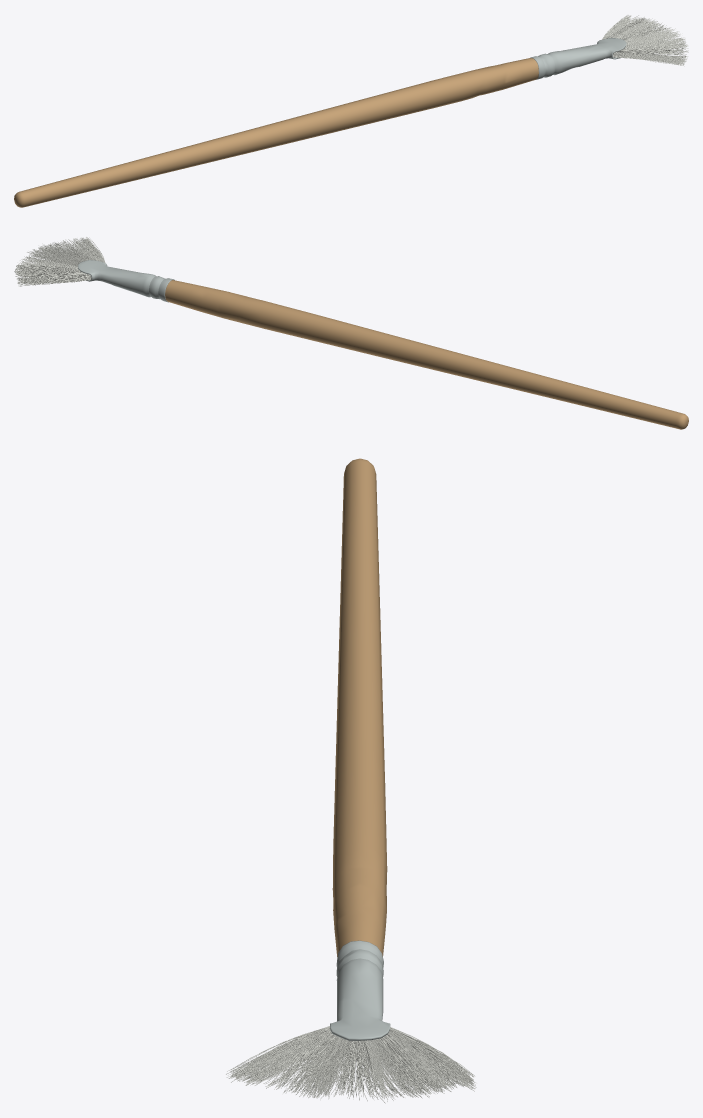
The model's file is paint_supplies_brush_a12.glb.
3 views of the same model, one above another, from view 1: azimuth 30°, elevation 25°; view 2: azimuth 150°, elevation 25°; view 3: azimuth 270°, elevation 25° (orthographic). The views are drawn at different scales.
Size of the model in its own units: 0.2537 by 0.00922 by 0.0418.
